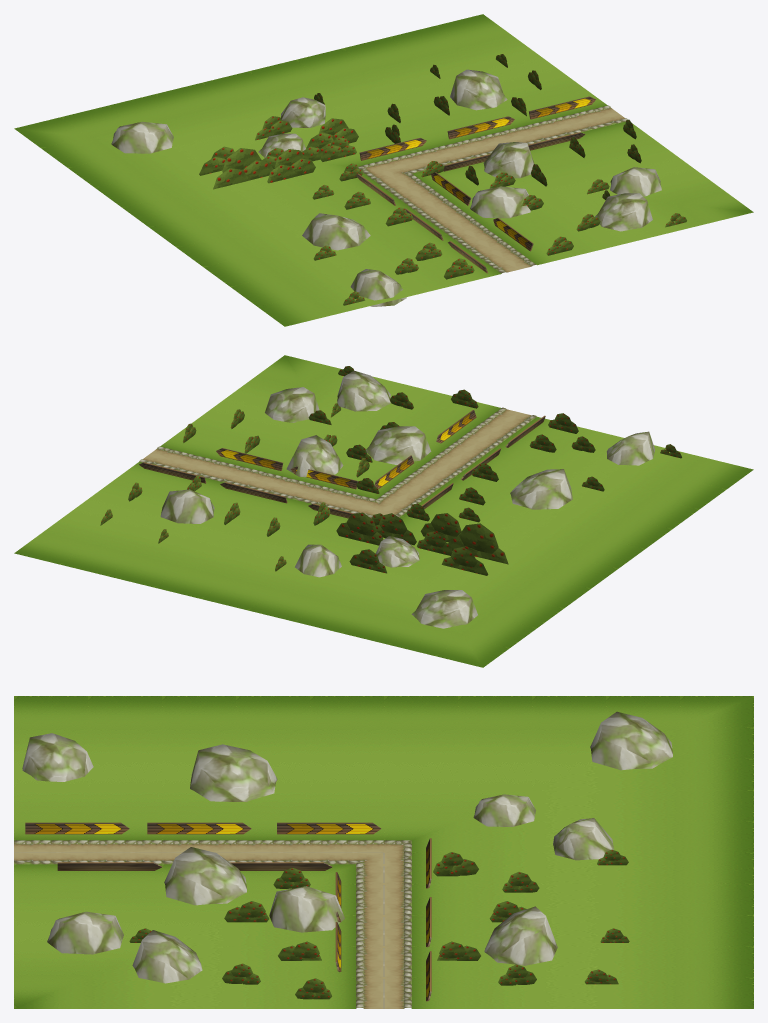
The model's file is ForestRoad02_Right.FBX.
3 renders of one model, top to bottom at view 1: azimuth 30°, elevation 25°; view 2: azimuth 150°, elevation 25°; view 3: azimuth 270°, elevation 25°, orthographic. The views are drawn at different scales.
Visible parts, largest first — view 1: Road, Stone (×10), Bush (×5), Fence (×3); view 2: Road, Stone (×10), Bush (×7), Fence; view 3: Road, Stone (×10), Bush (×9), Fence (×5).
Boxes of the visible parts, x1,y1,x2,y2 form: Road: (14,14,753,326); Stone (×10): (111,69,661,306); Bush (×5): (213,118,358,189); Fence (×3): (359,96,595,160); Road: (14,355,753,667); Stone (×10): (160,370,654,628); Bush (×7): (336,512,508,575); Fence: (216,448,283,470); Road: (14,696,753,1008); Stone (×10): (22,711,672,983); Bush (×9): (222,852,539,999); Fence (×5): (25,822,381,870).
Size of the model in its own units: 10000 by 888 by 10000.
